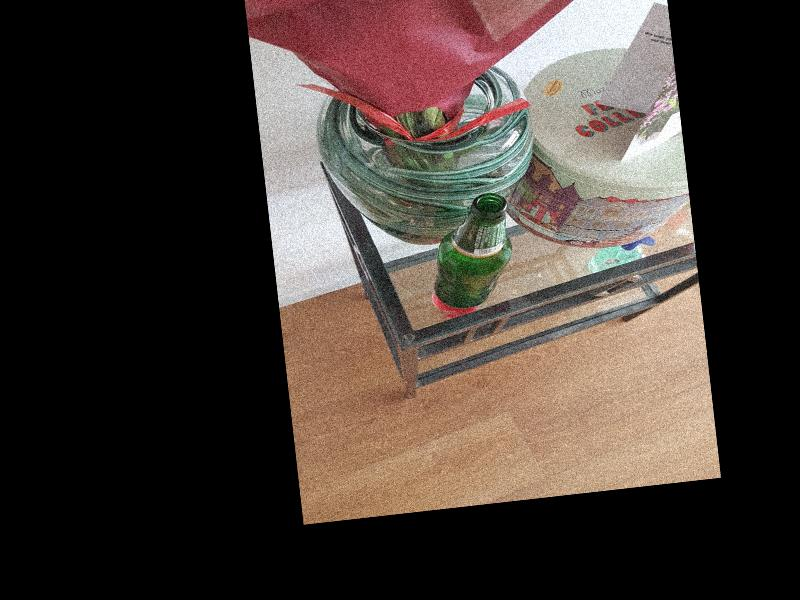Beer: (423, 191, 518, 311)
